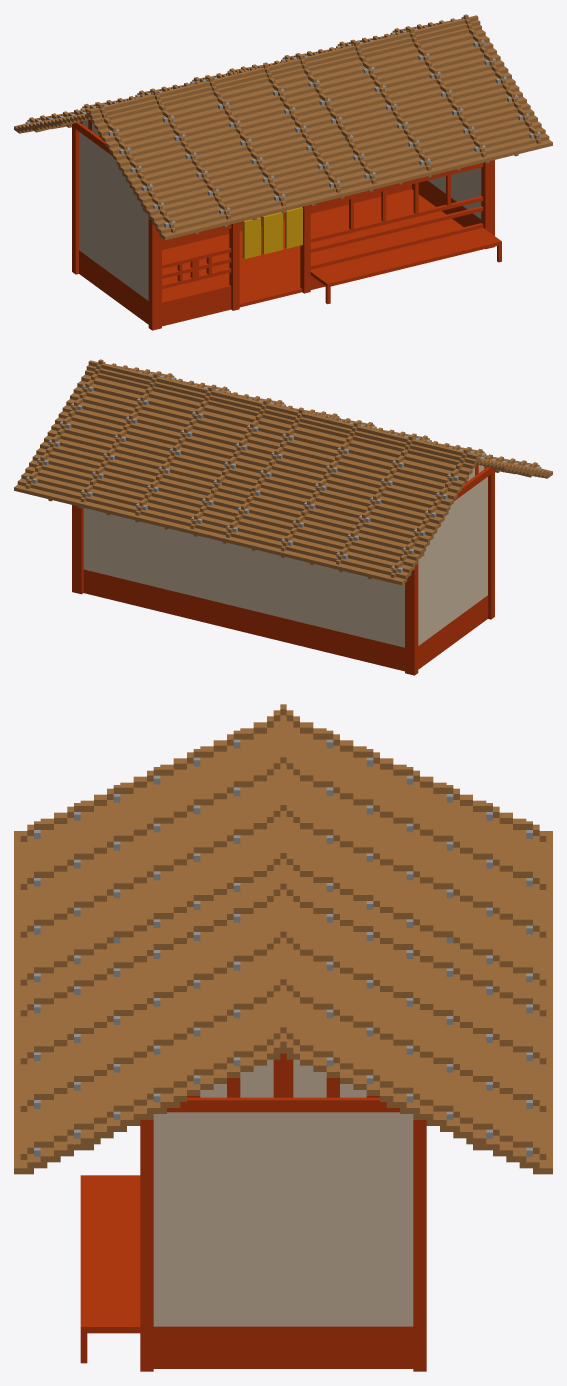
Rendered from hiraya-0.obj.
3 renders of one model, top to bottom at view 1: azimuth 30°, elevation 25°; view 2: azimuth 150°, elevation 25°; view 3: azimuth 270°, elevation 25°, orthographic. The views are drawn at different scales.
Visible parts, largest first — view 1: hiraya-0; view 2: hiraya-0; view 3: hiraya-0.
Part boxes in pixels (bbox=[...]): hiraya-0: bbox=[14, 14, 552, 330]; hiraya-0: bbox=[14, 359, 552, 675]; hiraya-0: bbox=[14, 704, 552, 1371].
Size of the model in its own units: 120 by 59 by 81.
1 material, 1 textured.
